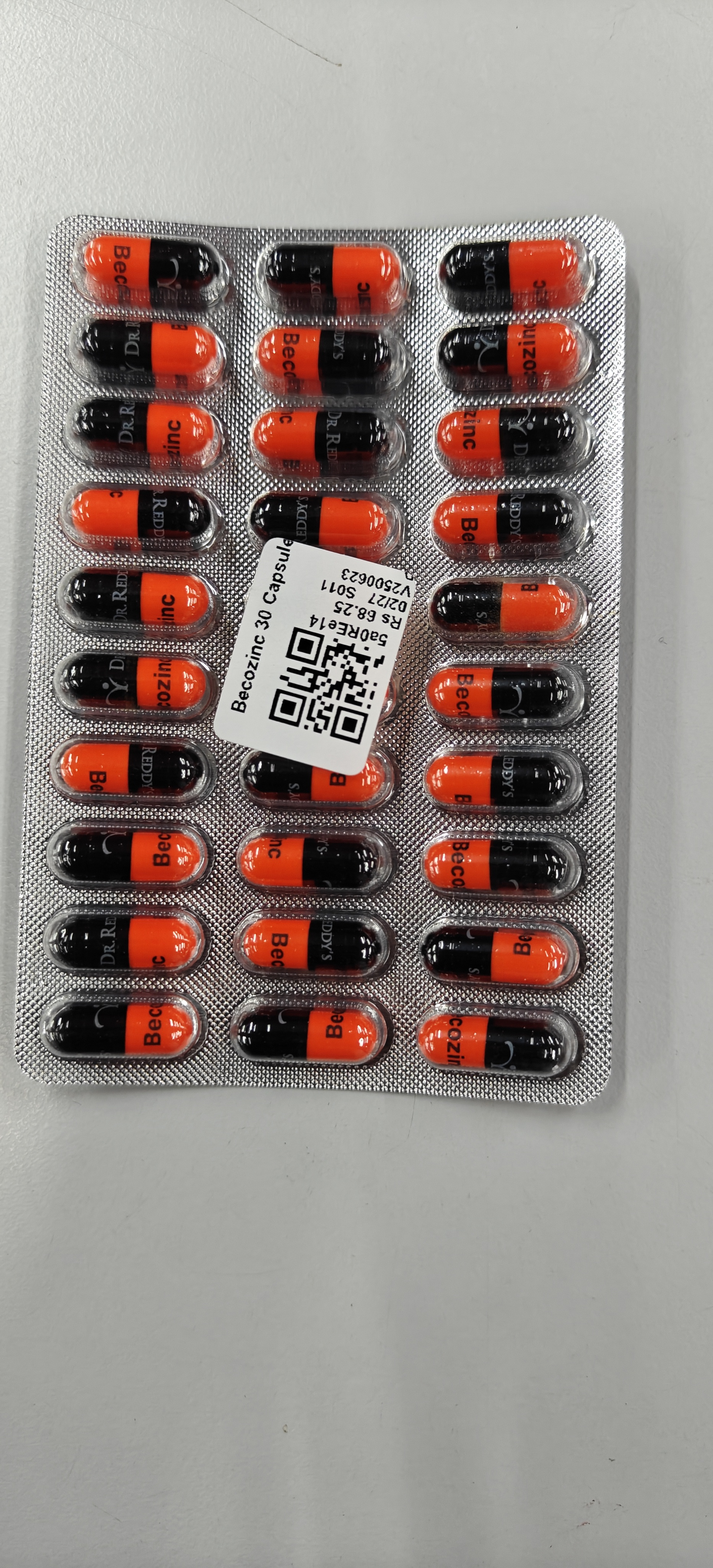qr_code: (268, 627, 387, 744)
